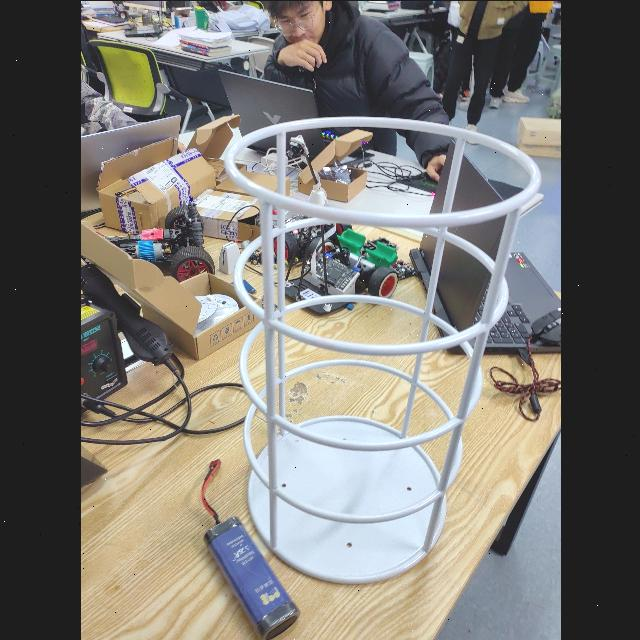S: (203, 106, 547, 594)
